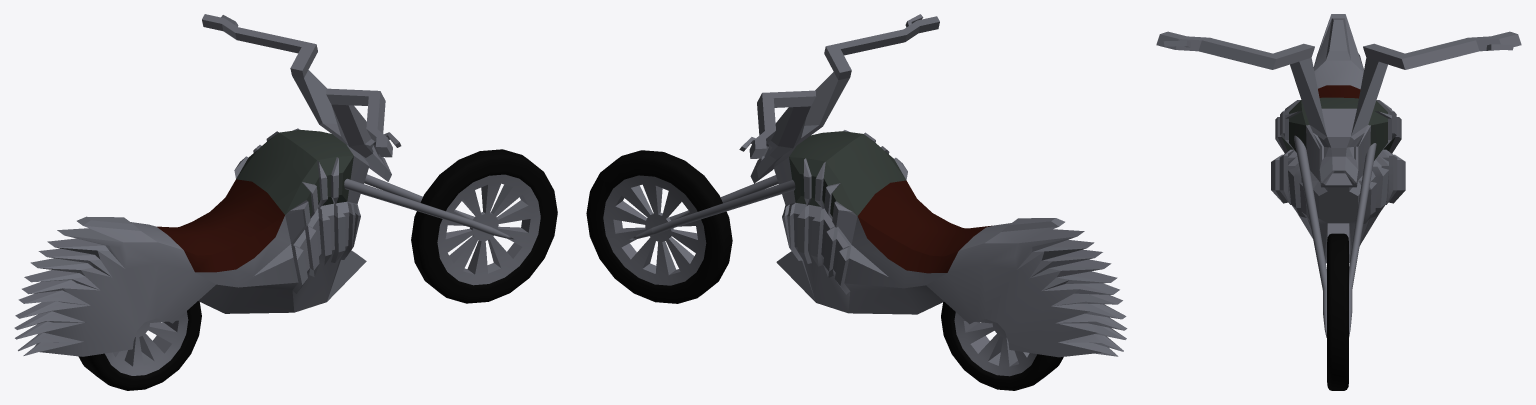
The model's file is Ghost Rider.fbx.
3 renders of one model, left to right at view 1: azimuth 30°, elevation 25°; view 2: azimuth 150°, elevation 25°; view 3: azimuth 270°, elevation 25°, orthographic.
Visible parts, largest first — view 1: polySurface4; view 2: polySurface4; view 3: polySurface4.
Boxes of the visible parts, x1,y1,x2,y2 form: polySurface4: [14, 14, 557, 390]; polySurface4: [586, 14, 1127, 390]; polySurface4: [1156, 14, 1521, 390].
Bounding box in the file's own units: 3.82 × 1.8 × 2.29.
